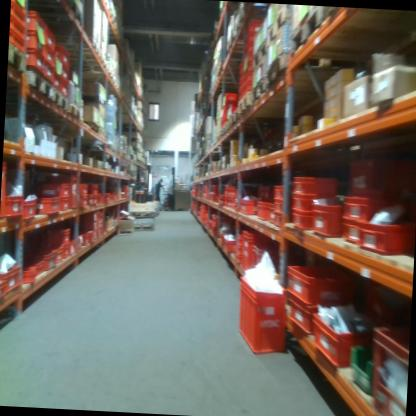pallet: (287, 5, 324, 61), (270, 6, 296, 49), (23, 68, 54, 98), (7, 41, 29, 79), (269, 54, 292, 89), (48, 86, 69, 118), (252, 71, 269, 108), (64, 101, 83, 124), (253, 42, 268, 67), (238, 92, 252, 118), (131, 219, 155, 234), (128, 209, 156, 219), (228, 106, 239, 131)
pallet_truck: (160, 160, 178, 212), (142, 163, 154, 199)
small_load_carrier: (234, 272, 289, 362), (364, 319, 409, 416), (310, 308, 368, 373), (346, 153, 413, 198), (285, 264, 353, 308), (355, 218, 415, 262), (312, 193, 349, 242), (342, 189, 389, 223), (250, 237, 280, 282), (55, 173, 80, 214), (0, 256, 21, 298), (288, 171, 326, 194), (32, 194, 60, 225), (241, 224, 257, 278), (289, 191, 324, 212), (38, 179, 71, 198), (30, 248, 54, 273), (53, 39, 72, 69), (44, 225, 72, 245), (341, 221, 363, 246), (23, 11, 45, 36), (1, 159, 10, 220), (4, 193, 23, 221), (9, 2, 27, 30), (22, 50, 44, 72), (23, 30, 44, 53), (9, 14, 25, 43), (289, 210, 314, 228), (41, 45, 56, 73), (22, 196, 38, 221), (18, 264, 37, 285), (257, 197, 273, 221), (8, 32, 24, 54), (26, 259, 42, 280), (41, 63, 57, 84), (43, 27, 56, 52), (50, 247, 63, 271), (247, 18, 264, 35), (223, 233, 237, 253), (74, 195, 88, 213), (56, 61, 69, 80), (220, 92, 236, 107), (240, 200, 257, 214), (76, 178, 89, 196), (272, 180, 284, 199), (49, 74, 62, 91), (62, 241, 72, 263), (59, 77, 68, 99), (11, 0, 28, 11), (82, 219, 97, 231), (0, 278, 6, 303), (273, 200, 283, 214), (244, 42, 254, 56), (236, 230, 245, 245), (62, 197, 70, 213), (82, 211, 98, 219), (243, 81, 252, 95), (89, 182, 99, 194), (273, 213, 282, 226), (86, 231, 98, 240), (87, 191, 94, 205), (246, 34, 255, 44), (244, 62, 251, 74), (245, 54, 253, 64), (245, 73, 252, 83), (94, 194, 99, 206), (238, 251, 242, 264), (231, 189, 236, 199), (226, 188, 231, 197), (238, 244, 241, 251)
